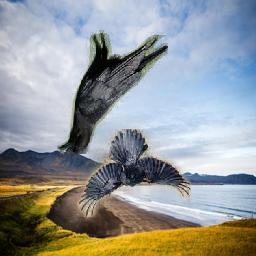Crow: (58, 30, 169, 154), (77, 129, 191, 217)
